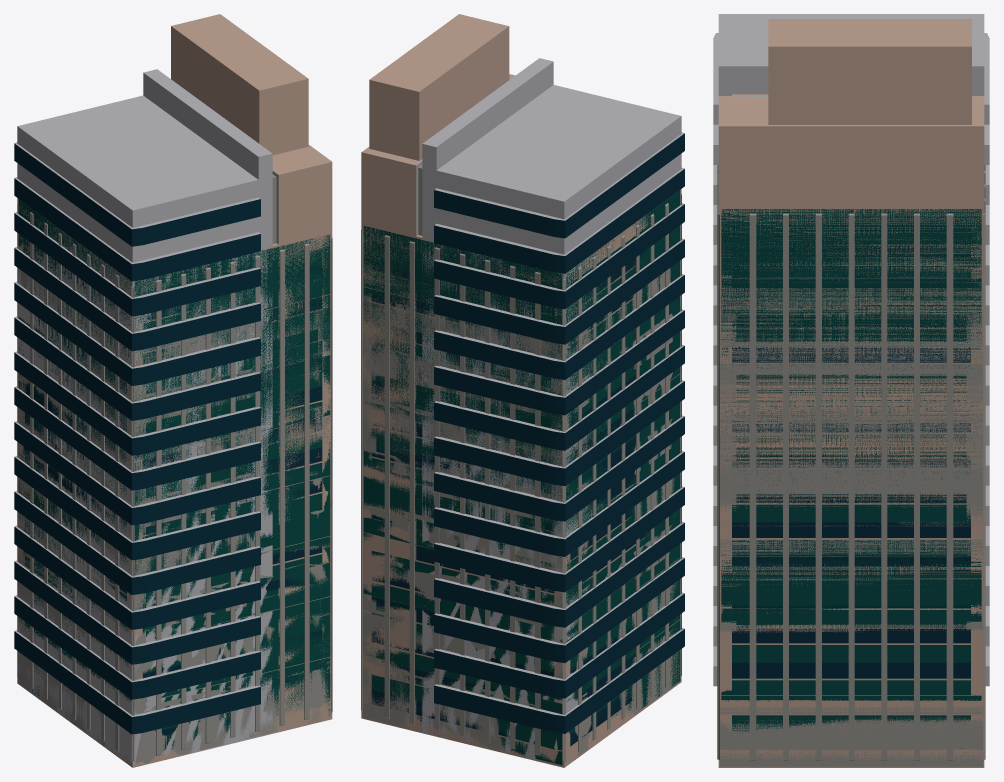
The model's file is building 2.fbx.
The picture shows the model from 3 angles, left to right: view 1: azimuth 30°, elevation 25°; view 2: azimuth 150°, elevation 25°; view 3: azimuth 270°, elevation 25°; orthographic projection. The views are drawn at different scales.
Visible parts, largest first — view 1: building_3, building_2_a, building_2_b, building_1_a, buliding_4; view 2: building_3, building_2_a, buliding_4, building_1_a, building_2_b; view 3: building_3, buliding_4, building_2_a, building_1_a, building_2_b.
Boxes of the visible parts, x1,y1,x2,y2 form: building_3: (14, 14, 332, 767); building_2_a: (18, 199, 330, 749); building_2_b: (17, 203, 332, 761); building_1_a: (18, 270, 331, 765); buliding_4: (17, 198, 332, 767); building_3: (361, 14, 684, 767); building_2_a: (363, 190, 680, 765); buliding_4: (361, 189, 681, 767); building_1_a: (362, 268, 680, 766); building_2_b: (361, 194, 681, 761); building_3: (713, 14, 989, 767); buliding_4: (718, 94, 984, 767); building_2_a: (721, 209, 981, 701); building_1_a: (720, 288, 982, 766); building_2_b: (717, 165, 985, 760).
Bounding box in the file's own units: 6.09 × 17.95 × 6.25.
